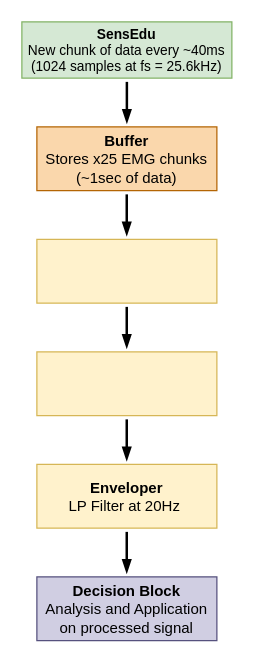
Some shapes in this 254 by 663 pixel diagram are drawn without their labels. Here are the shapes that lost their labels. From the top down, the centre of each, then its label:
At (126,270): "Digital Filter Bandpass FIR (20Hz and 300Hz cutoff)".
At (126,383): "Rectifier EMG absolute values".
